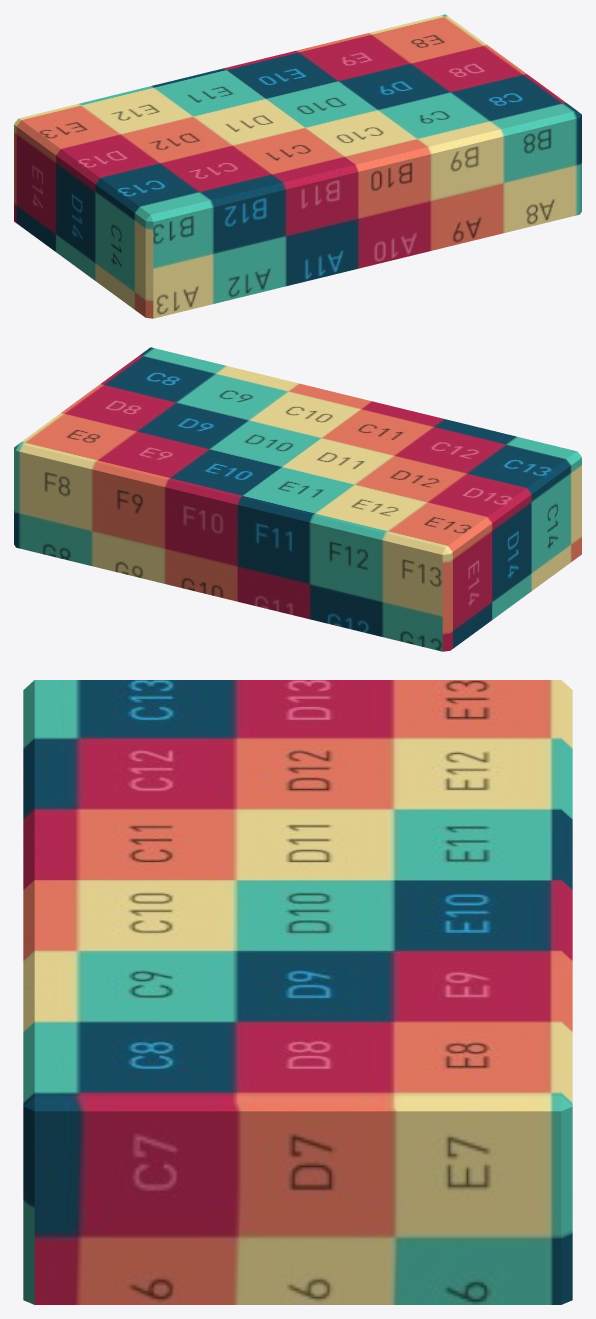
The model's file is bgame_2.fbx.
The picture shows the model from 3 angles, top to bottom: view 1: azimuth 30°, elevation 25°; view 2: azimuth 150°, elevation 25°; view 3: azimuth 270°, elevation 25°; orthographic projection. The views are drawn at different scales.
Parts seen in each view (by area): view 1: bored_game5; view 2: bored_game5; view 3: bored_game5.
Boxes of the visible parts, x1,y1,x2,y2 form: bored_game5: (14, 14, 581, 318); bored_game5: (14, 347, 581, 651); bored_game5: (23, 680, 572, 1304).
Size of the model in its own units: 34.08 by 7.61 by 18.59.
